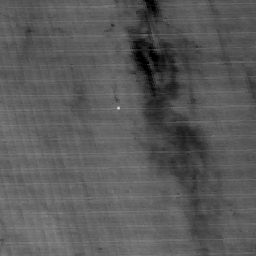Target: (115, 104, 121, 111)
